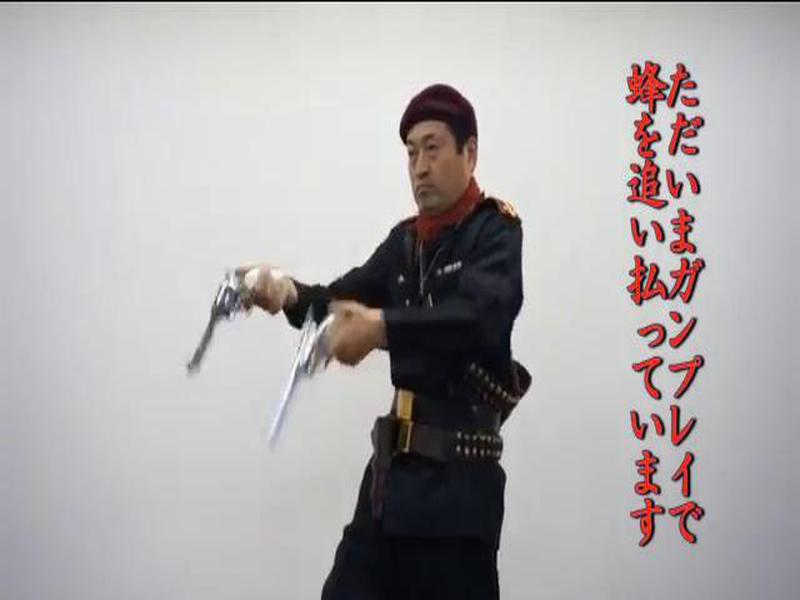Revolver: (169, 252, 294, 395), (267, 300, 360, 452)
